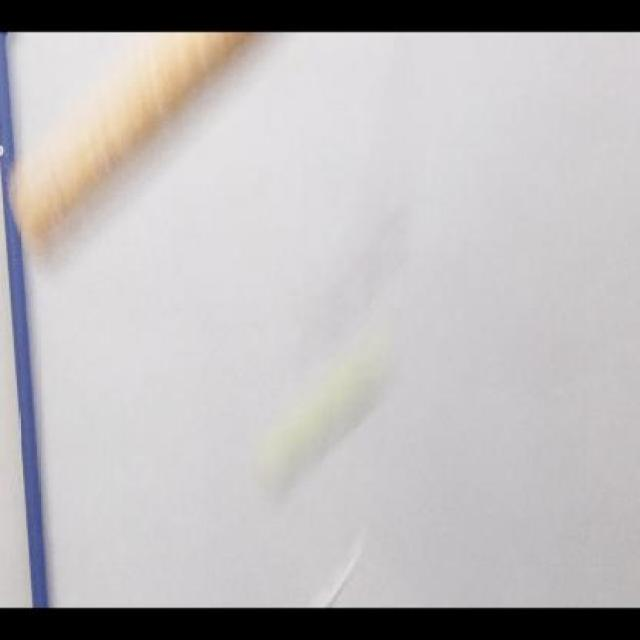baseball: (256, 325, 398, 493)
